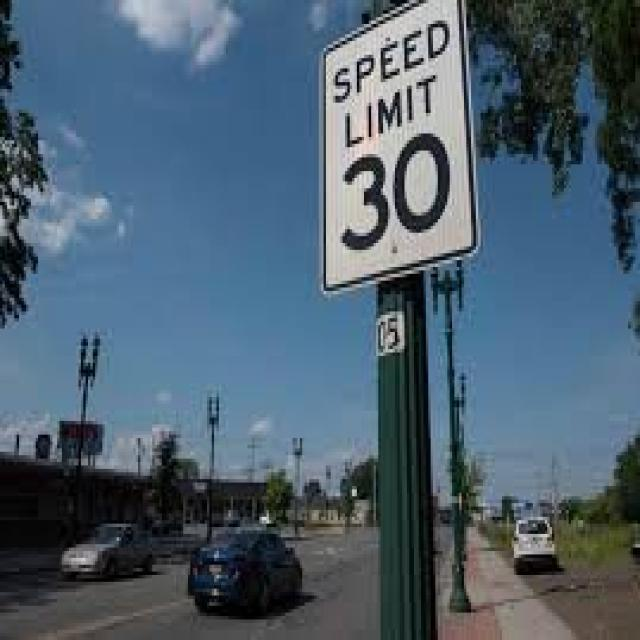speedLimit30: (326, 5, 459, 303)
